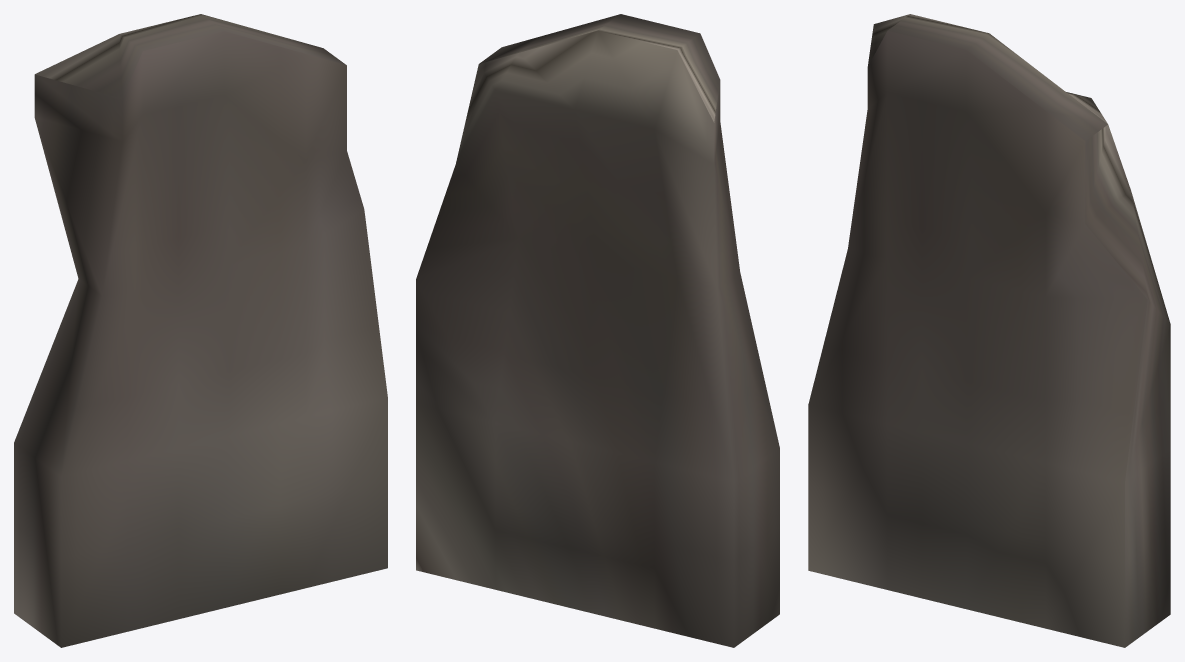
Rendered from ruin6.glb.
The picture shows the model from 3 angles, left to right: view 1: azimuth 30°, elevation 25°; view 2: azimuth 150°, elevation 25°; view 3: azimuth 330°, elevation 25°; orthographic projection. The views are drawn at different scales.
Parts seen in each view (by area): view 1: ruin6; view 2: ruin6; view 3: ruin6.
Part boxes in pixels (x1,y1,x2,y2): ruin6: [14, 14, 387, 647]; ruin6: [416, 14, 779, 647]; ruin6: [808, 14, 1170, 647].
Size of the model in its own units: 4 by 6.75 by 1.
1 material, 1 textured.
